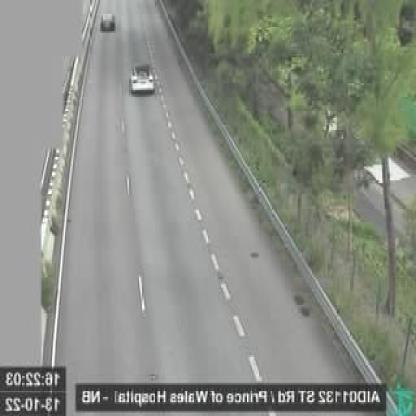Car: (129, 61, 156, 96), (99, 12, 114, 33)
